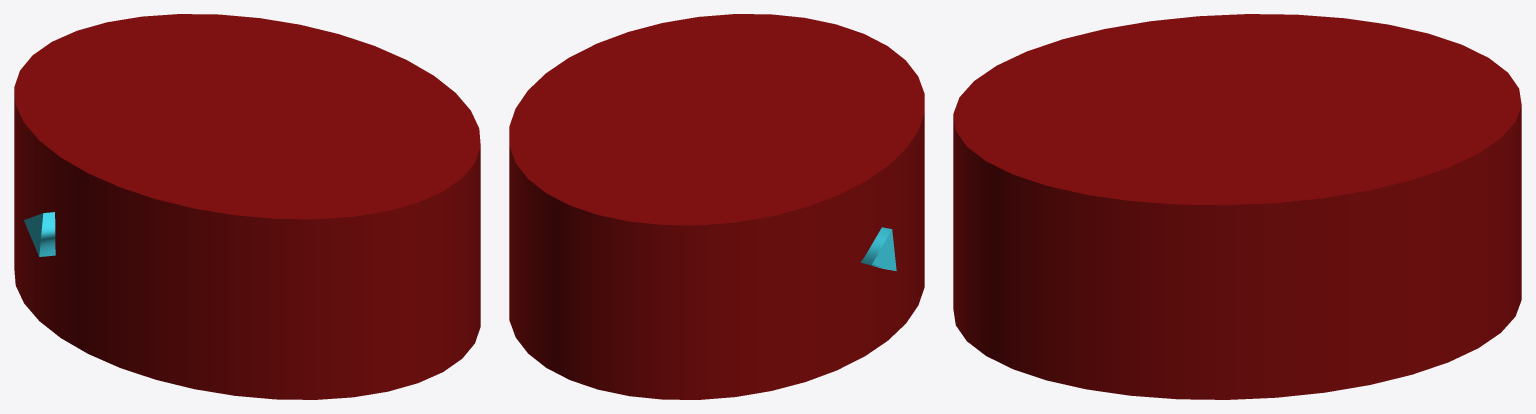
File: red.FBX
3 renders of one model, left to right at view 1: azimuth 30°, elevation 25°; view 2: azimuth 150°, elevation 25°; view 3: azimuth 270°, elevation 25°, orthographic. The views are drawn at different scales.
Visible parts, largest first — view 1: Cylinder004; view 2: Cylinder004; view 3: Cylinder004.
Part boxes in pixels (x1=…): Cylinder004: x1=14, y1=14, x2=480, y2=399; Cylinder004: x1=509, y1=14, x2=924, y2=399; Cylinder004: x1=953, y1=14, x2=1521, y2=399.
Bounding box in the file's own units: 32.97 × 15.02 × 39.74.
